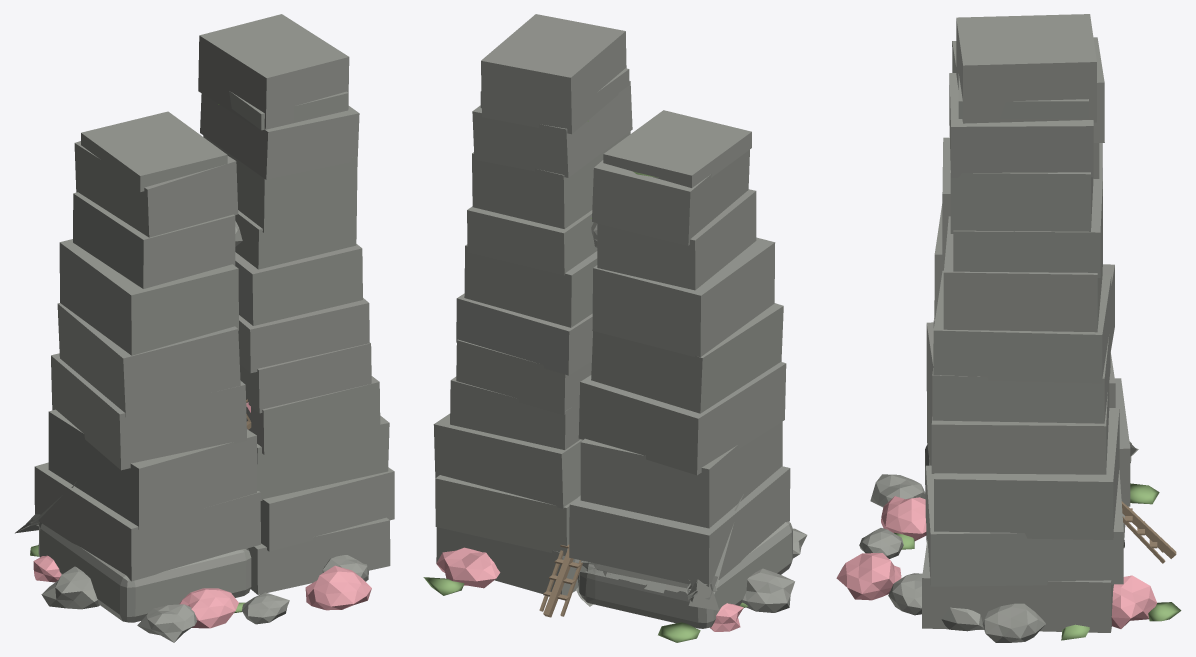
The model's file is ThunderF26Kit.fbx.
3 views of the same model, side by side, from view 1: azimuth 30°, elevation 25°; view 2: azimuth 150°, elevation 25°; view 3: azimuth 270°, elevation 25° (orthographic). The views are drawn at different scales.
Parts seen in each view (by area): view 1: SplitGraniteTor__STONE, SplitGraniteTor__ALT; view 2: SplitGraniteTor__STONE, SplitGraniteTor__ALT, HighlandWindmill__WOOD, SplitGraniteTor__MOSS; view 3: SplitGraniteTor__STONE, SplitGraniteTor__ALT, SplitGraniteTor__MOSS, HighlandWindmill__WOOD.
Boxes of the visible parts, left/top/right/bottom form: SplitGraniteTor__STONE: left=15, top=14, right=394, bottom=642; SplitGraniteTor__ALT: left=33, top=555, right=371, bottom=628; SplitGraniteTor__STONE: left=433, top=14, right=807, bottom=628; SplitGraniteTor__ALT: left=436, top=547, right=743, bottom=631; HighlandWindmill__WOOD: left=539, top=544, right=582, bottom=617; SplitGraniteTor__MOSS: left=423, top=120, right=747, bottom=642; SplitGraniteTor__STONE: left=859, top=14, right=1138, bottom=642; SplitGraniteTor__ALT: left=836, top=496, right=1156, bottom=628; SplitGraniteTor__MOSS: left=894, top=483, right=1181, bottom=640; HighlandWindmill__WOOD: left=1121, top=501, right=1176, bottom=563.
Size of the model in its own units: 65.57 by 94.18 by 52.92.
